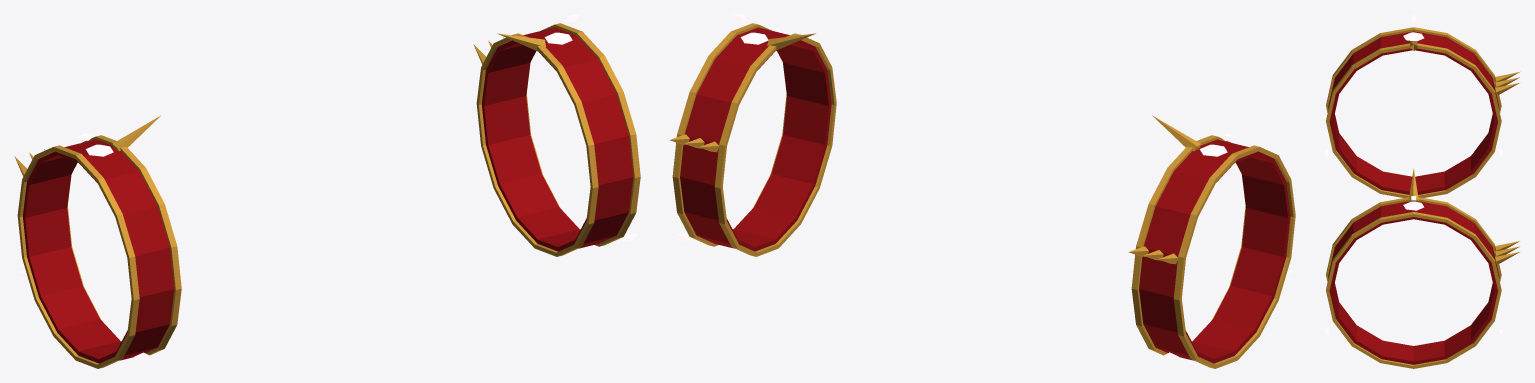
The model's file is armor_lord_arms_mythic_orc.glb.
3 renders of one model, left to right at view 1: azimuth 30°, elevation 25°; view 2: azimuth 150°, elevation 25°; view 3: azimuth 270°, elevation 25°, orthographic. The views are drawn at different scales.
Visible parts, largest first — view 1: armor_lord_arms_mythic_orc__lowerarm_r, armor_lord_arms_mythic_orc__lowerarm_l; view 2: armor_lord_arms_mythic_orc__lowerarm_r, armor_lord_arms_mythic_orc__lowerarm_l; view 3: armor_lord_arms_mythic_orc__lowerarm_l, armor_lord_arms_mythic_orc__lowerarm_r.
Part boxes in pixels (<box>): armor_lord_arms_mythic_orc__lowerarm_r: <box>14,115,181,368</box>; armor_lord_arms_mythic_orc__lowerarm_l: <box>473,14,640,256</box>; armor_lord_arms_mythic_orc__lowerarm_r: <box>1128,115,1295,368</box>; armor_lord_arms_mythic_orc__lowerarm_l: <box>669,14,836,256</box>; armor_lord_arms_mythic_orc__lowerarm_l: <box>1324,168,1519,368</box>; armor_lord_arms_mythic_orc__lowerarm_r: <box>1324,14,1519,197</box>.
Size of the model in its own units: 120 by 50.78 by 53.29.
